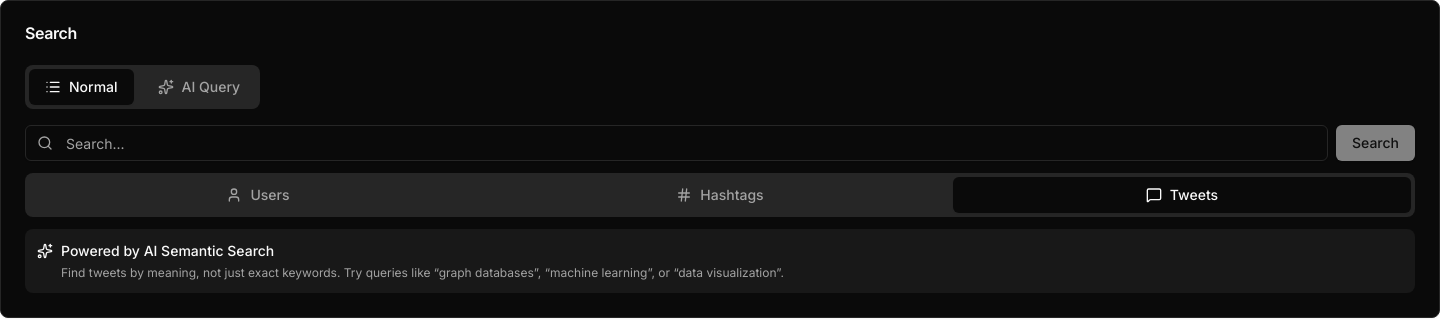
GlobalSearch Component › should show AI semantic search info only for Tweets tab
expect the text "Powered by AI Semantic Search" is shown: met, box [61,242,274,259]
Note: Switch to Users
What coordinates should you click on to do the following:
click the button "Users"
I would click on:
 (258, 195)
Its box is [29,177,487,213].
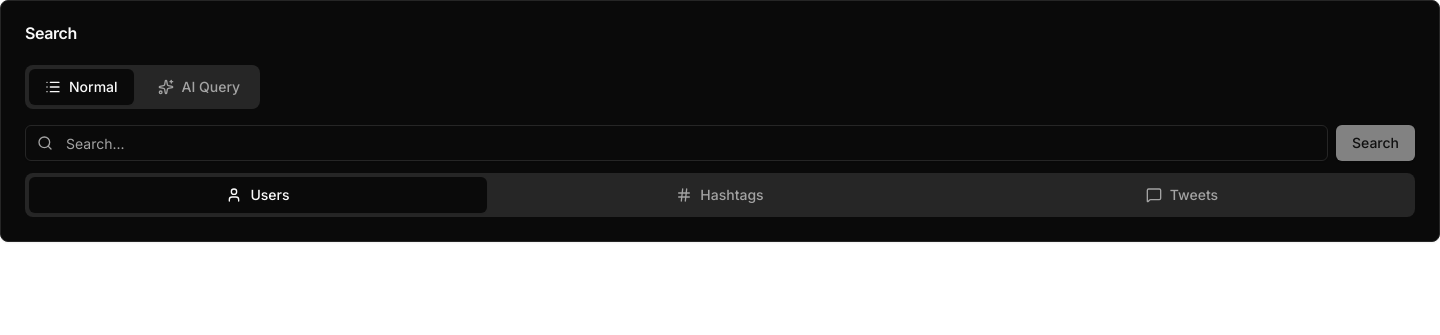
expect the text "Powered by AI Semantic Search" is gone: met
